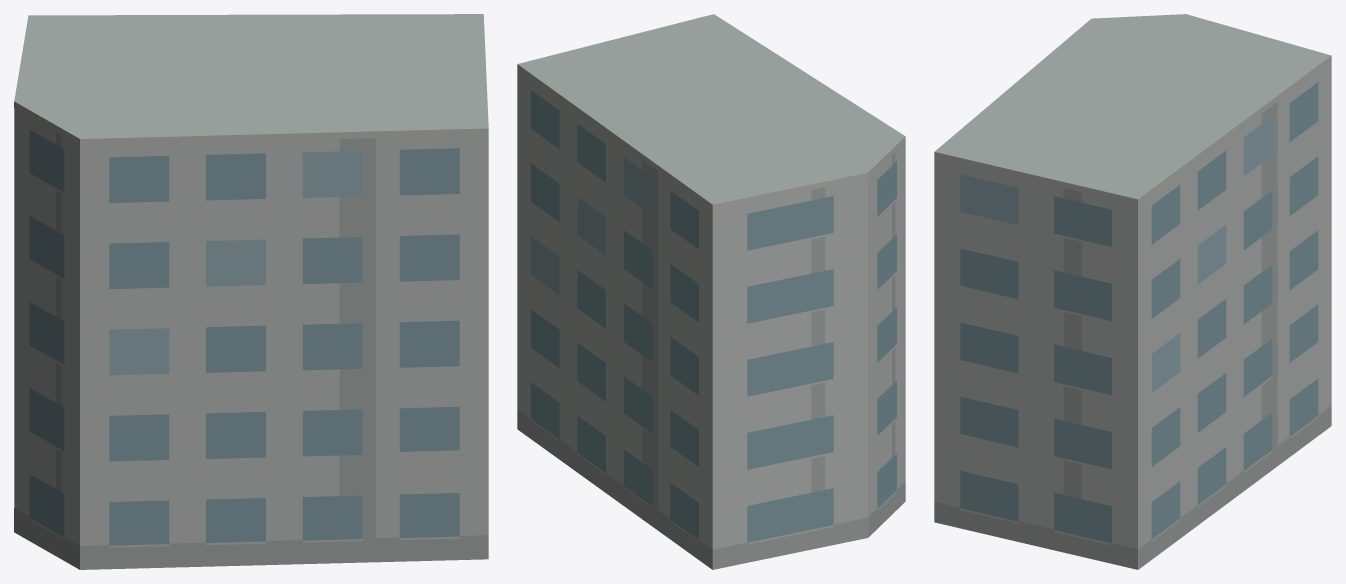
File: survey-upis-32930891.glb
3 renders of one model, left to right at view 1: azimuth 30°, elevation 25°; view 2: azimuth 150°, elevation 25°; view 3: azimuth 270°, elevation 25°, orthographic. The views are drawn at different scales.
Visible parts, largest first — view 1: survey-upis-32930891.tmp; view 2: survey-upis-32930891.tmp; view 3: survey-upis-32930891.tmp.
Boxes of the visible parts, <box> form: survey-upis-32930891.tmp: <box>14,14,488,569</box>; survey-upis-32930891.tmp: <box>517,14,905,569</box>; survey-upis-32930891.tmp: <box>934,14,1331,569</box>.
Size of the model in its own units: 16.37 by 15.25 by 14.82.
